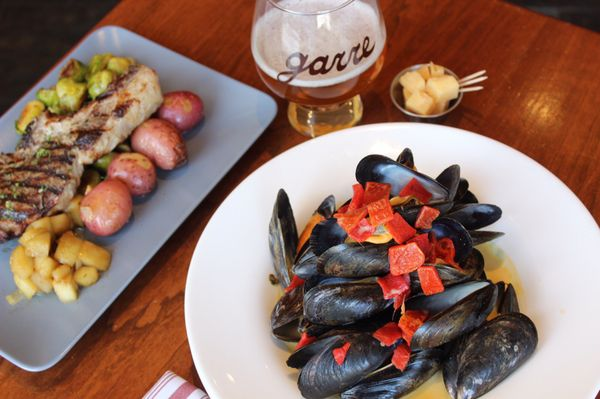pizza: (249, 1, 387, 139)
sushi: (389, 63, 465, 121)
